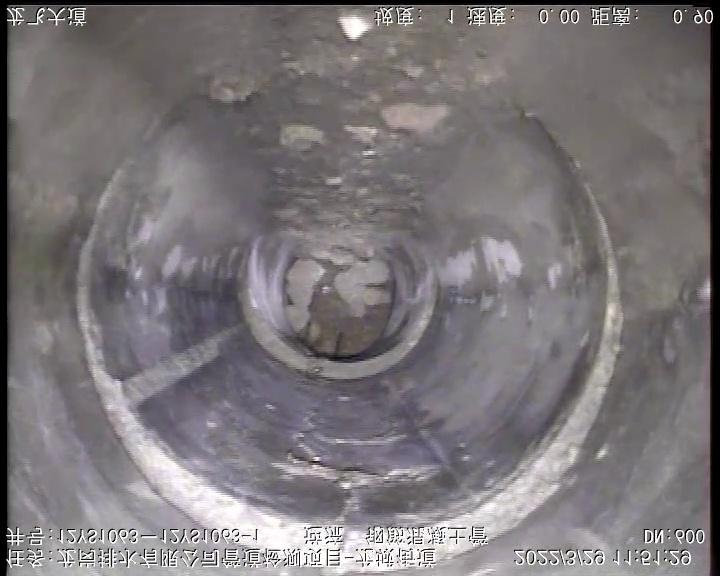CJ: (212, 10, 513, 267)
CKTJ: (69, 81, 632, 574), (236, 235, 447, 385)
PL: (275, 434, 437, 523)
